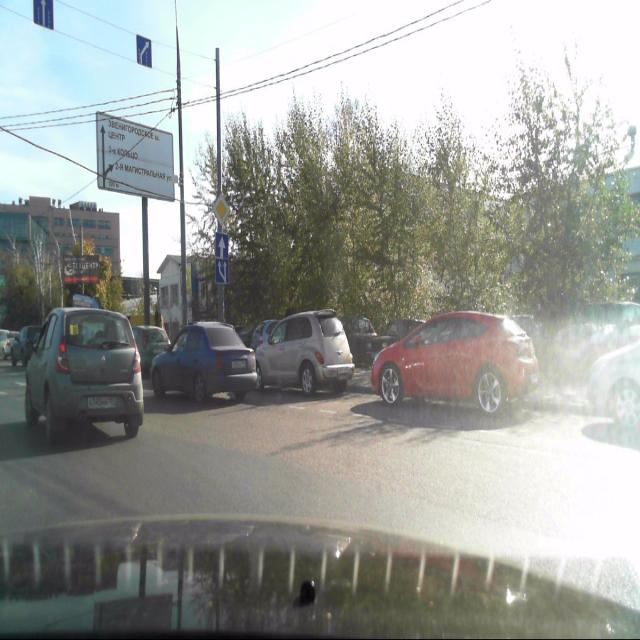road sign: (32, 0, 56, 33), (135, 34, 154, 67), (212, 194, 231, 226), (214, 230, 230, 258), (216, 259, 230, 284)
